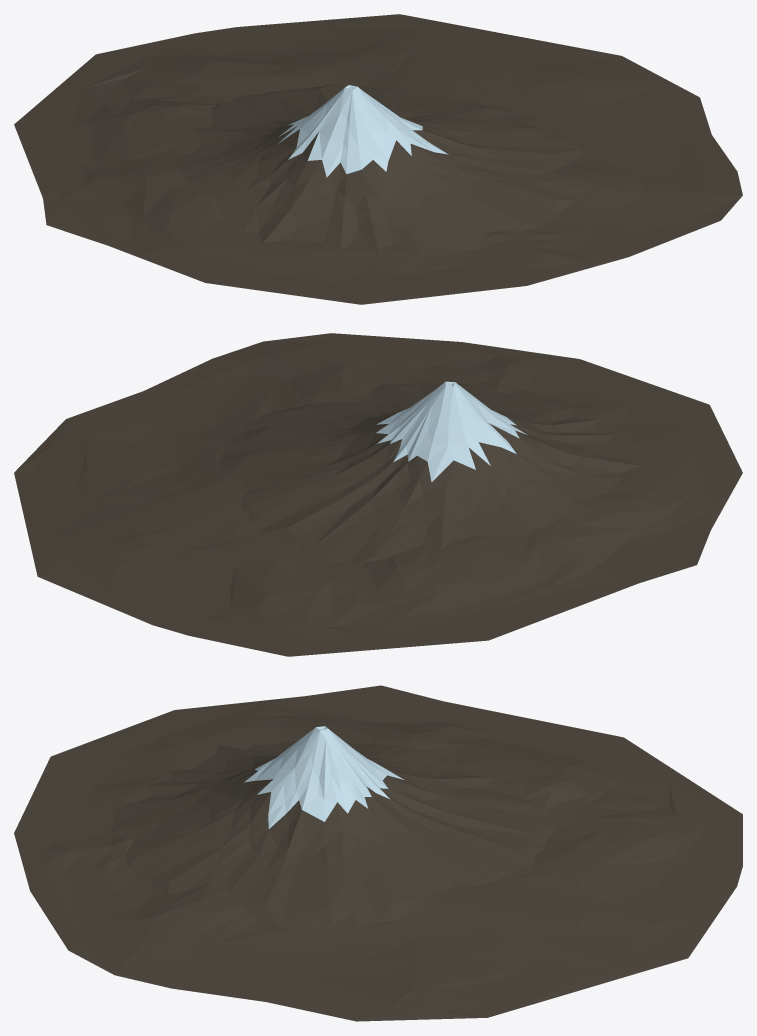
File: fuji.glb
The picture shows the model from 3 angles, top to bottom: view 1: azimuth 30°, elevation 25°; view 2: azimuth 150°, elevation 25°; view 3: azimuth 270°, elevation 25°; orthographic projection.
Parts seen in each view (by area): view 1: SM_Env_GroundMound_Fuji_01_1080, SM_Env_Fuji_01_1077; view 2: SM_Env_GroundMound_Fuji_01_1080, SM_Env_Fuji_01_1077; view 3: SM_Env_GroundMound_Fuji_01_1080, SM_Env_Fuji_01_1077.
Boxes of the visible parts, x1,y1,x2,y2 form: SM_Env_GroundMound_Fuji_01_1080: (14,14,742,304); SM_Env_Fuji_01_1077: (173,84,580,257); SM_Env_GroundMound_Fuji_01_1080: (14,333,742,656); SM_Env_Fuji_01_1077: (216,381,640,564); SM_Env_GroundMound_Fuji_01_1080: (14,685,742,1021); SM_Env_Fuji_01_1077: (109,726,555,929).
Bounding box in the file's own units: 153 × 26.46 × 150.
1 material, 1 textured.
